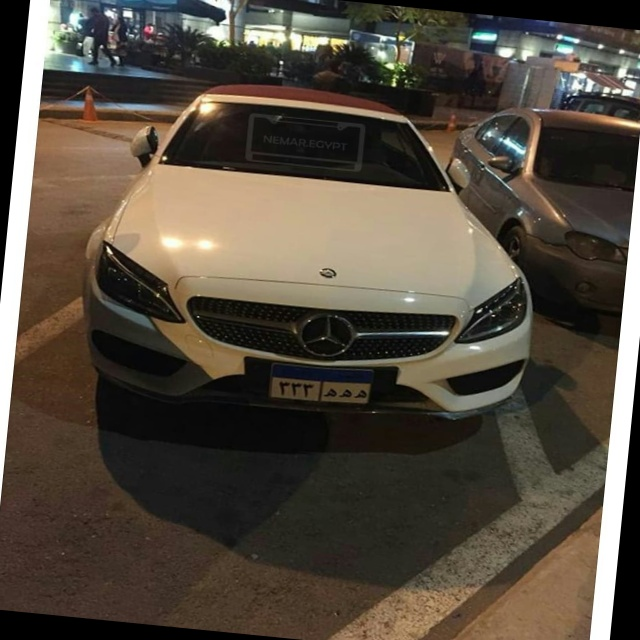License Plate: (265, 358, 378, 411)
